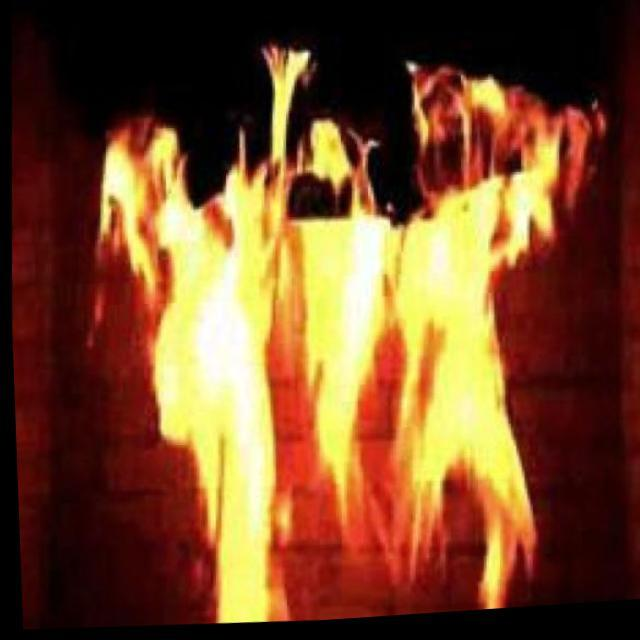fire: (93, 95, 535, 617)
